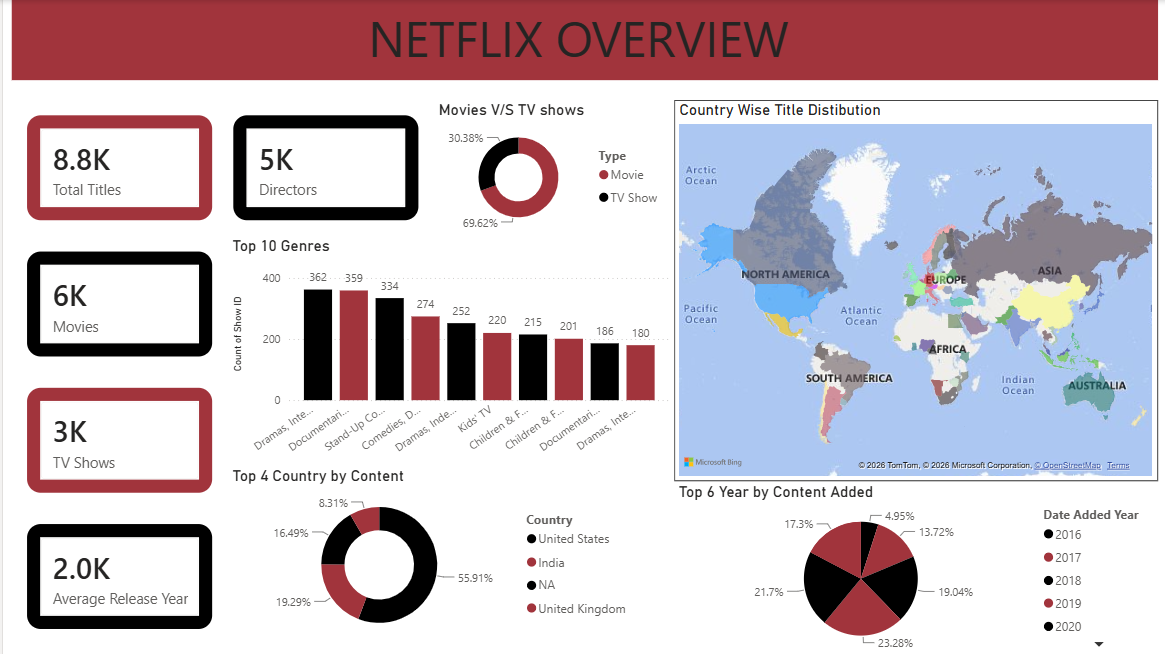

The dashboard page shown, as its layout file describes it:
{"tool":"powerbi","page":{"name":"Page 1","canvas":[1280,720],"ordinal":0},"visuals":[{"type":"textbox","box":[9.6,0,1258.3,87.8],"z":0},{"type":"cardVisual","fields":{"Data":["Table.Total Titles"]},"box":[9.6,109.8,237.4,149.6],"z":1000},{"type":"cardVisual","fields":{"Data":["Table.Movies"]},"box":[9.6,259.3,237.4,149.6],"z":2000},{"type":"cardVisual","fields":{"Data":["Table.TV Shows"]},"box":[9.6,408.9,237.4,149.6],"z":3000},{"type":"cardVisual","fields":{"Data":["Table.Average Release Year"]},"box":[9.6,558.5,237.4,149.6],"z":4000},{"type":"donutChart","title":"Movies V/S TV shows","fields":{"Category":["Netflix data.Type"],"Y":["CountNonNull(Netflix data.Show ID)"]},"box":[473.4,109.8,259.3,149.6],"z":5000},{"type":"clusteredColumnChart","title":"Top 10 Genres","fields":{"Category":["Netflix data.Genre"],"Y":["CountNonNull(Netflix data.Show ID)"]},"box":[247,259.3,489.9,269],"z":6000},{"type":"filledMap","title":"Country Wise Title Distibution","fields":{"Category":["Netflix data.Country"],"Series":["Netflix data.Show ID"]},"box":[736.9,109.8,531,418.5],"z":7000},{"type":"donutChart","title":"Top 4 Country by Content","fields":{"Category":["Netflix data.Country"],"Y":["CountNonNull(Netflix data.Show ID)"]},"box":[247,511.8,451.5,196.2],"z":8000},{"type":"pieChart","title":"Top 6 Year by Content Added","fields":{"Category":["Netflix data.Date Added.Variation.Date Hierarchy.Year"],"Y":["CountNonNull(Netflix data.Show ID)"]},"box":[736.9,529.7,531,190.7],"z":9000},{"type":"cardVisual","fields":{"Data":["All Measures.Directors"]},"box":[236,109.8,237.4,149.6],"z":10000}]}

Visuals, with their boxes in screenshot pixels (x1, y1, x2, y2), scaled from the page's 1280x720 canvas onto the 1165x654 screenshot:
textbox: box=[9, 0, 1154, 80]
cardVisual - Table.Total Titles: box=[9, 100, 225, 236]
cardVisual - Table.Movies: box=[9, 236, 225, 371]
cardVisual - Table.TV Shows: box=[9, 371, 225, 507]
cardVisual - Table.Average Release Year: box=[9, 507, 225, 643]
"Movies V/S TV shows" donutChart: box=[431, 100, 667, 236]
"Top 10 Genres" clusteredColumnChart: box=[225, 236, 671, 480]
"Country Wise Title Distibution" filledMap: box=[671, 100, 1154, 480]
"Top 4 Country by Content" donutChart: box=[225, 465, 636, 643]
"Top 6 Year by Content Added" pieChart: box=[671, 481, 1154, 653]
cardVisual - All Measures.Directors: box=[215, 100, 431, 236]
